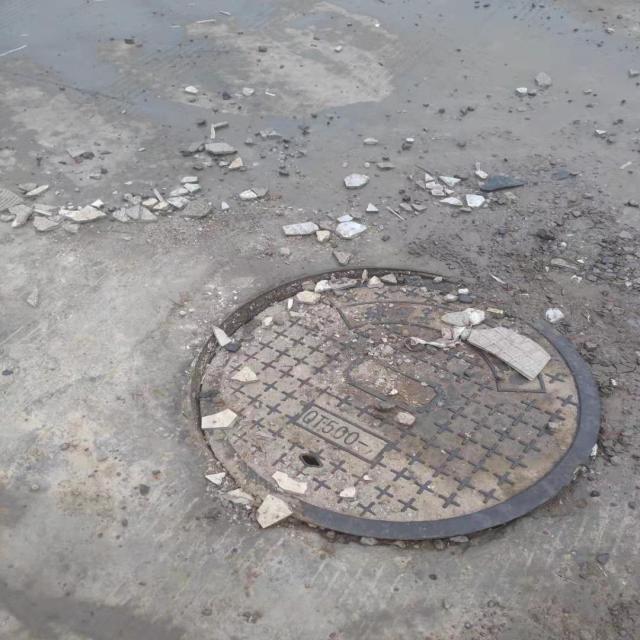Faulty: (190, 267, 600, 540)
